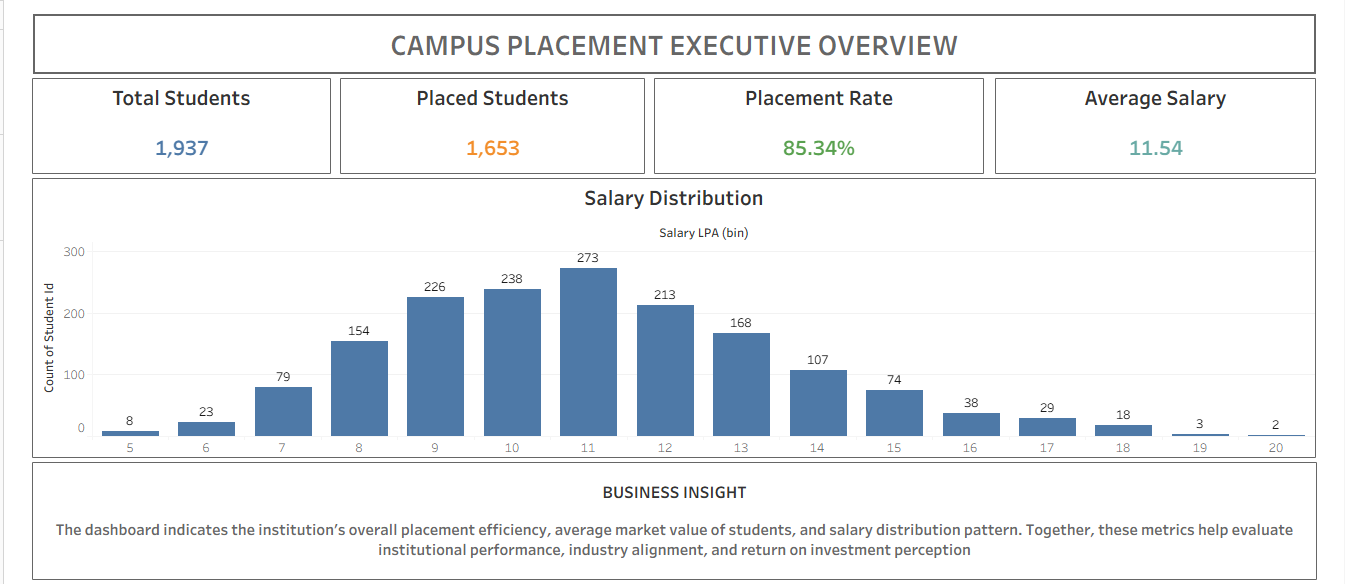

The dashboard page shown, as its layout file describes it:
{"tool":"tableau","page":{"name":"Executive Overview","canvas":[1000,1000],"units":"permille","ordinal":1},"visuals":[{"type":"text","box":[21.7,24,957.6,102.7]},{"type":"worksheet","title":"Total Students","mark":"Automatic","box":[20.8,133.6,223.4,164.4]},{"type":"worksheet","title":"Placed Students","mark":"Automatic","box":[251.1,133.6,227.7,164.4]},{"type":"worksheet","title":"Placement Rate","mark":"Text","box":[485.1,133.6,246.3,164.4]},{"type":"worksheet","title":"Average Salary","mark":"Automatic","box":[739.4,133.6,239.8,164.4]},{"type":"worksheet","title":"Salary Distribution","mark":"Automatic","rows":["Student_Id"],"cols":["Salary LPA (bin)"],"box":[20.8,304.8,958.4,479.4]},{"type":"text","box":[20.8,791.1,959.3,202.1]}]}

Visuals, with their boxes on the dashboard's canvas, which has no fixed pixel size, in thousandths of its width and height (x1, y1, x2, y2). These are canvas units, not pixel positions in the 1345x584 screenshot, which may show the page scaled, cropped or inside an application window:
text: (22, 24, 979, 127)
"Total Students" worksheet: (21, 134, 244, 298)
"Placed Students" worksheet: (251, 134, 479, 298)
"Placement Rate" worksheet (Text marks): (485, 134, 731, 298)
"Average Salary" worksheet: (739, 134, 979, 298)
"Salary Distribution" worksheet: (21, 305, 979, 784)
text: (21, 791, 980, 993)
